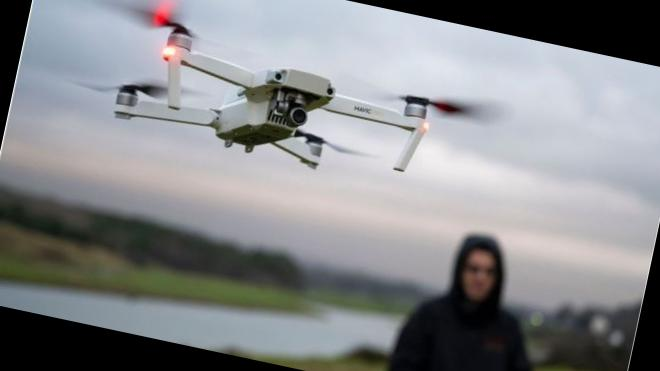drone: (58, 0, 458, 199)
